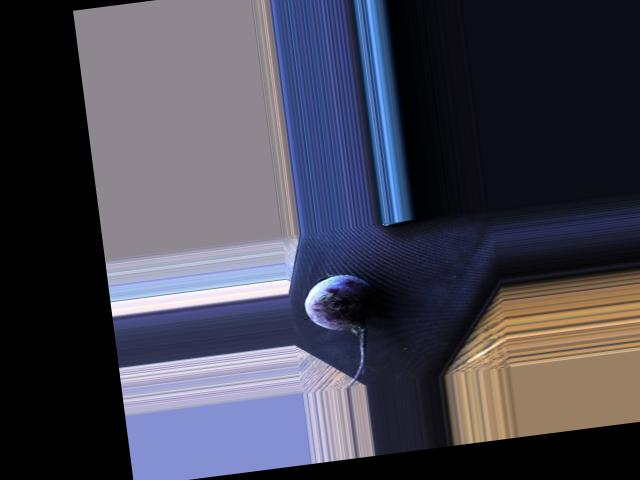beet: (302, 270, 388, 391)
